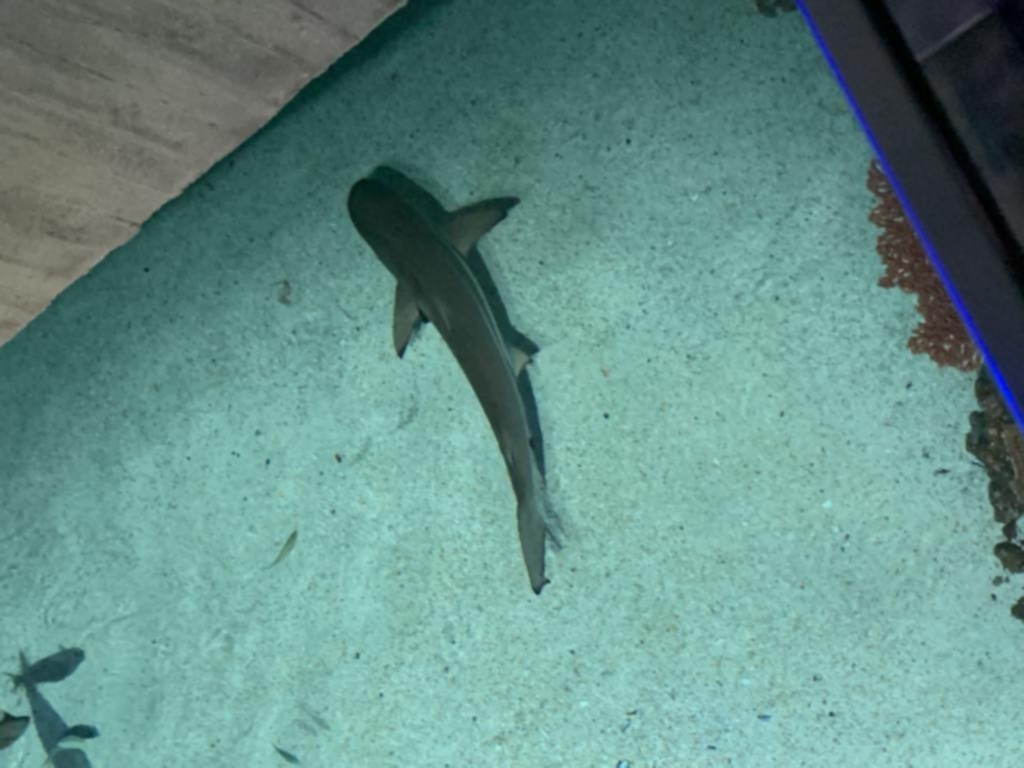fish: (4, 645, 84, 689)
shark: (346, 177, 570, 594)
